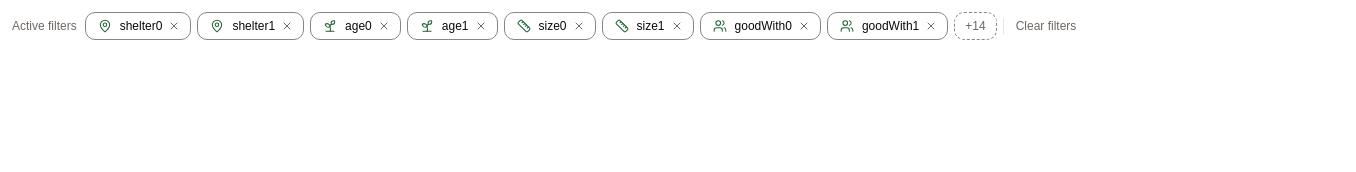
Test: the active filters row › puts everything past the eighth pill behind a count
Click the button "+14" at (976, 26), box [954,12,997,40]
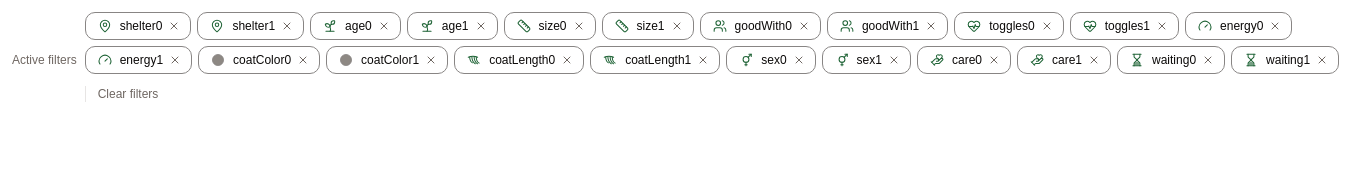
expect the button with aria-label "Remove filter care1" is shown: met, box [1017,46,1111,74]
